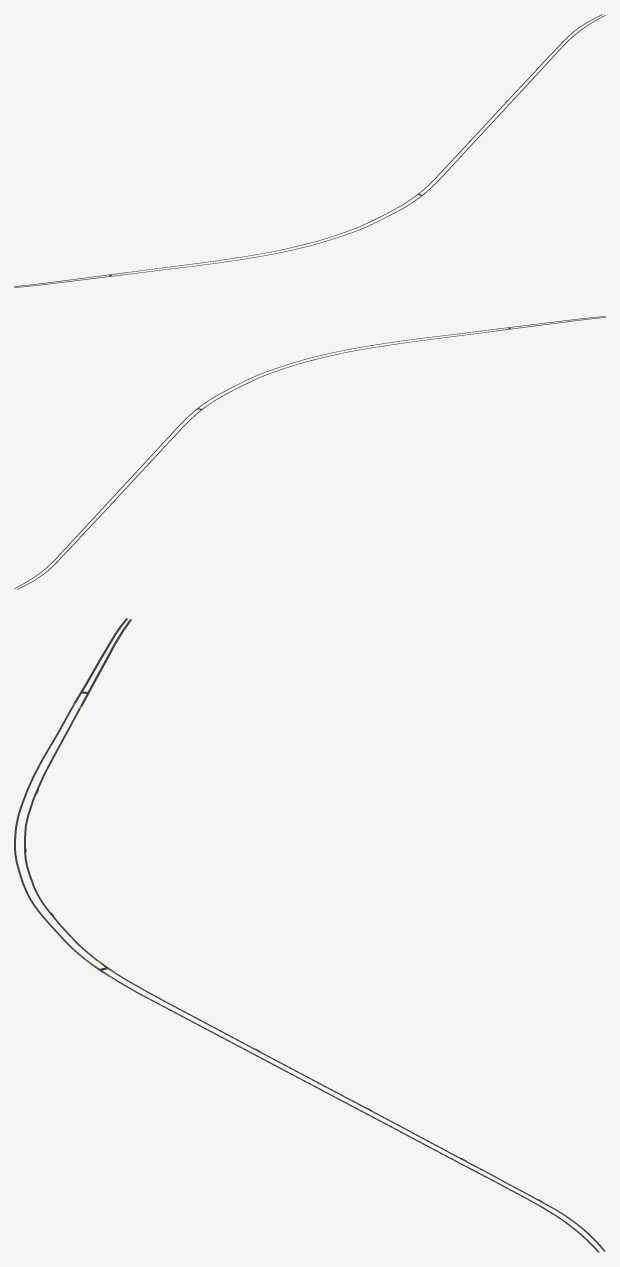
Rendered from road-white-model-2.glb.
3 renders of one model, top to bottom at view 1: azimuth 30°, elevation 25°; view 2: azimuth 210°, elevation 25°; view 3: azimuth 270°, elevation 25°, orthographic. The views are drawn at different scales.
Visible parts, largest first — view 1: 道路; view 2: 道路; view 3: 道路.
Part boxes in pixels (x1,y1,x2,y2): 道路: (14, 14, 605, 287); 道路: (14, 316, 605, 589); 道路: (14, 618, 605, 1252).
Bounding box in the file's own units: 6947 × 1.02 × 2740.
7 materials, 7 textured.
